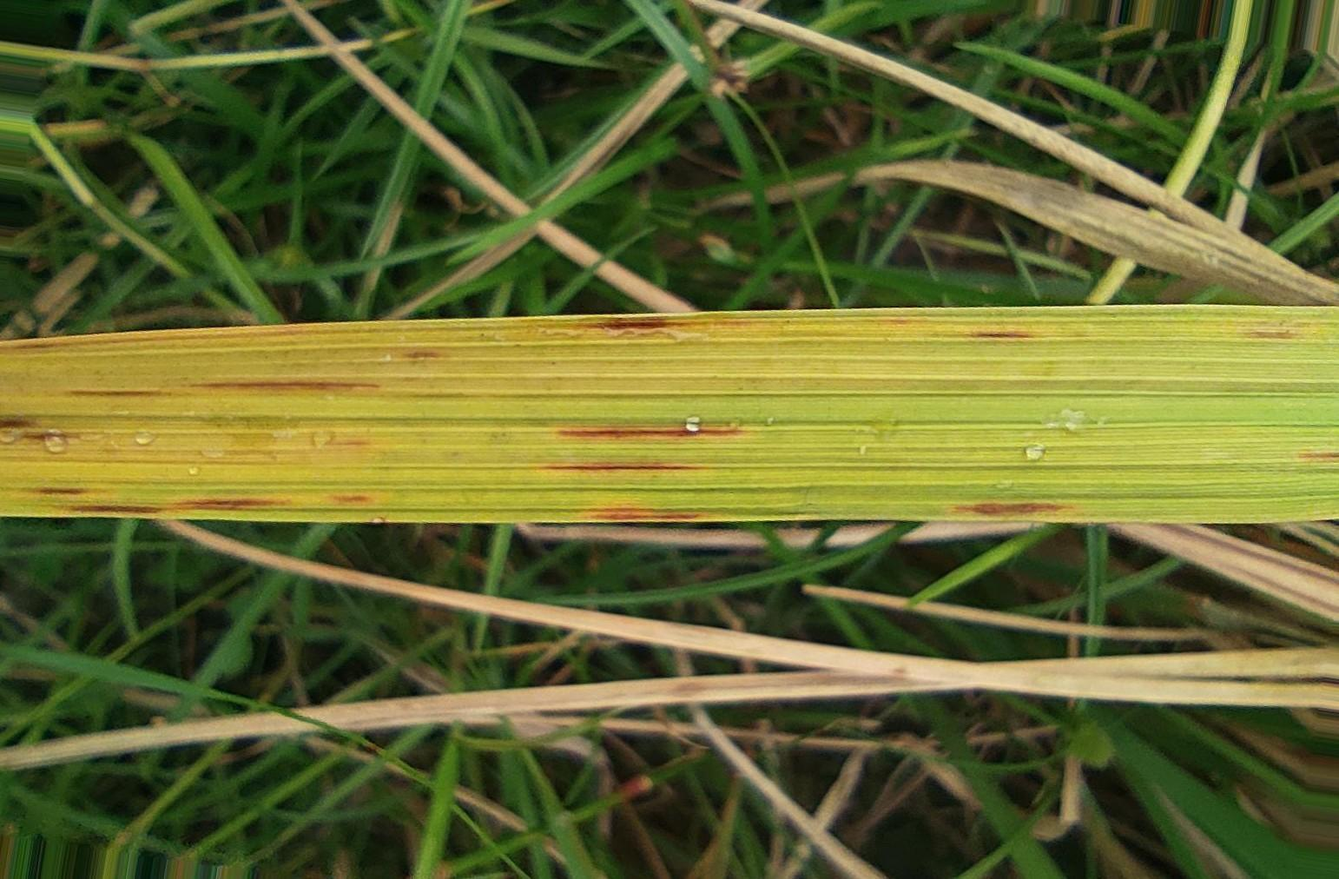LEAF: (0, 306, 1338, 524)
NBS: (568, 315, 758, 329), (558, 428, 743, 436), (957, 502, 1063, 515), (167, 499, 292, 510), (193, 382, 381, 388), (67, 504, 163, 513), (67, 390, 172, 398), (540, 465, 707, 469), (591, 514, 700, 520), (325, 494, 374, 504), (31, 487, 89, 495), (22, 432, 67, 442), (973, 332, 1035, 338), (398, 351, 449, 358), (1249, 333, 1298, 339), (0, 420, 34, 428), (1293, 453, 1338, 459), (11, 344, 61, 349), (592, 508, 656, 511)
